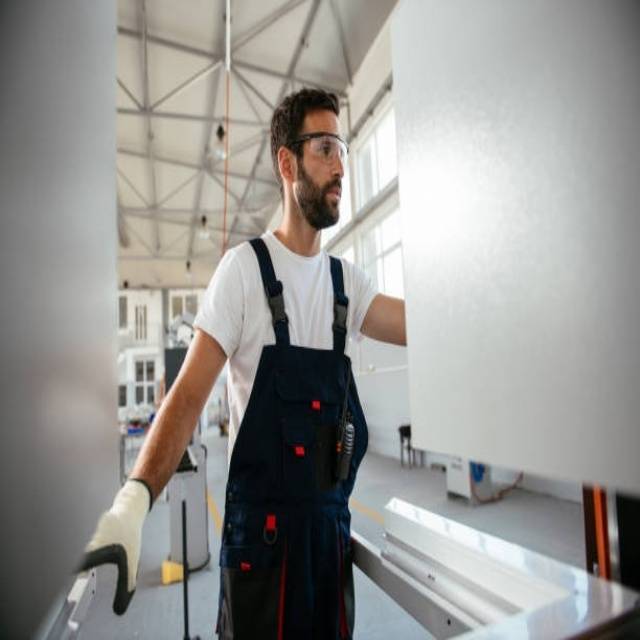Gafas: (287, 131, 350, 162)
Guantes: (78, 477, 152, 611)
Sin_mascara: (315, 180, 345, 223)
